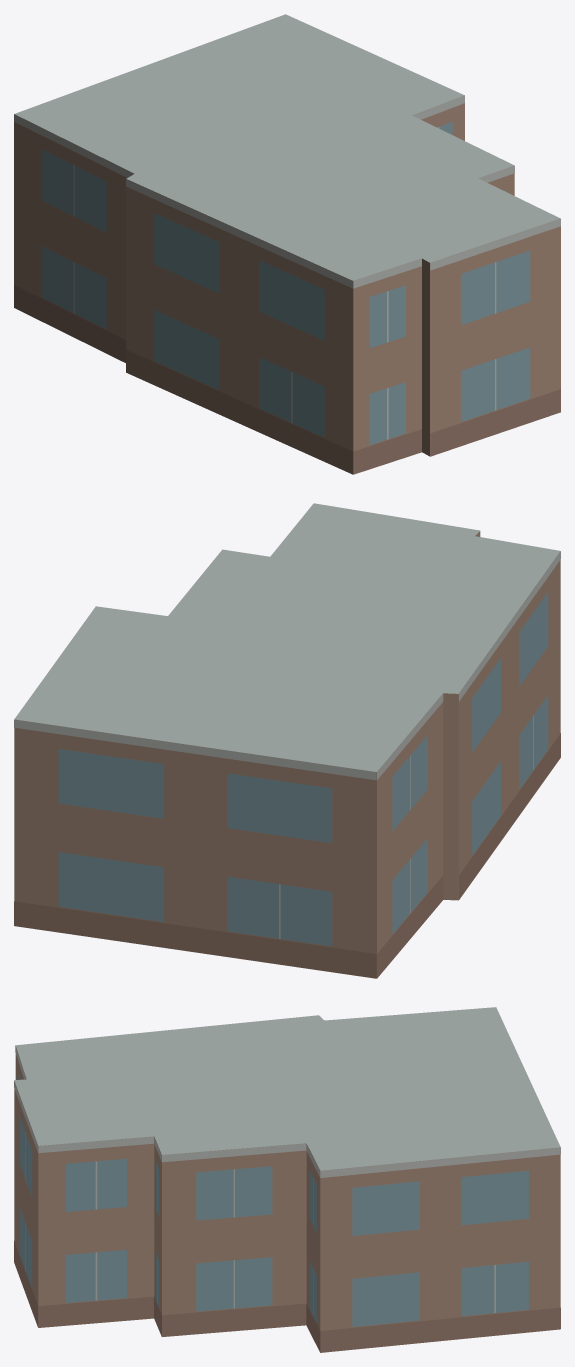
Rendered from survey-upis-32780353.glb.
3 renders of one model, top to bottom at view 1: azimuth 30°, elevation 25°; view 2: azimuth 150°, elevation 25°; view 3: azimuth 270°, elevation 25°, orthographic. The views are drawn at different scales.
Parts seen in each view (by area): view 1: survey-upis-32780353.tmp; view 2: survey-upis-32780353.tmp; view 3: survey-upis-32780353.tmp.
Boxes of the visible parts, x1,y1,x2,y2 form: survey-upis-32780353.tmp: (14, 14, 560, 474); survey-upis-32780353.tmp: (14, 503, 560, 978); survey-upis-32780353.tmp: (14, 1007, 560, 1352).
Bounding box in the file's own units: 11.78 × 6.1 × 16.61.
